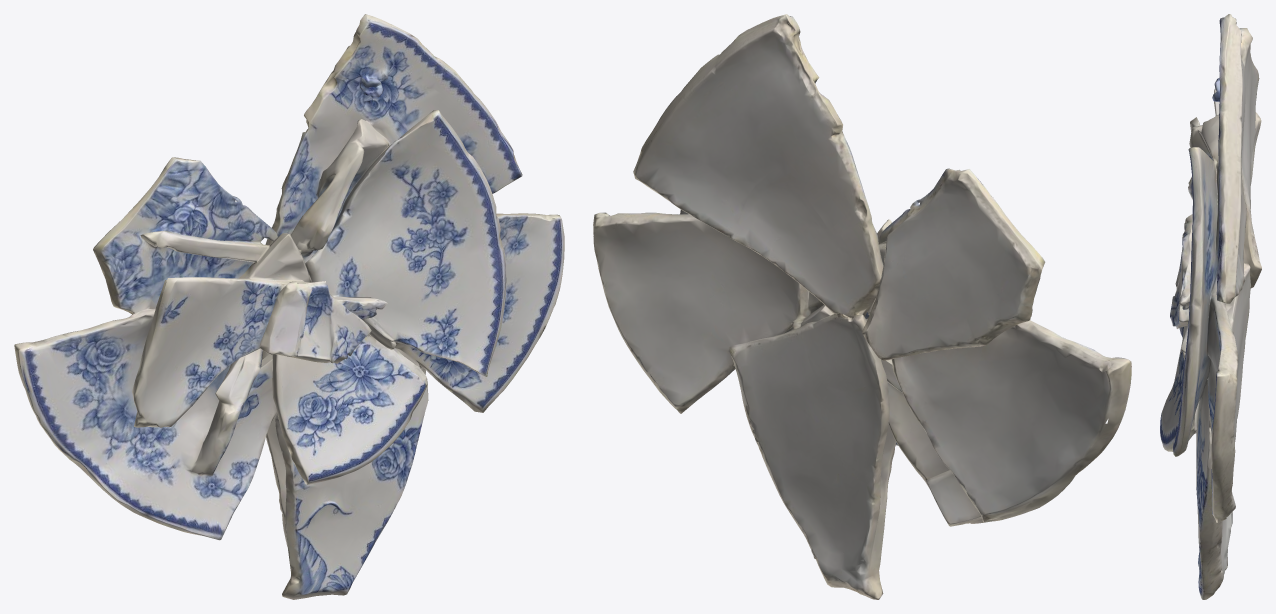
File: plate-flower.glb
3 renders of one model, left to right at view 1: azimuth 30°, elevation 25°; view 2: azimuth 150°, elevation 25°; view 3: azimuth 270°, elevation 25°, orthographic. The views are drawn at different scales.
Visible parts, largest first — view 1: tripo_node_154f371d-0f29-4396-a3b6-87bcf03d1b72; view 2: tripo_node_154f371d-0f29-4396-a3b6-87bcf03d1b72; view 3: tripo_node_154f371d-0f29-4396-a3b6-87bcf03d1b72.
Boxes of the visible parts, bbox=[...] form: tripo_node_154f371d-0f29-4396-a3b6-87bcf03d1b72: bbox=[14, 14, 564, 599]; tripo_node_154f371d-0f29-4396-a3b6-87bcf03d1b72: bbox=[593, 14, 1131, 599]; tripo_node_154f371d-0f29-4396-a3b6-87bcf03d1b72: bbox=[1160, 14, 1261, 599].
Size of the model in its own units: 0.9791 by 0.9821 by 0.1504.
Materials: 1 (1 with a texture image).
